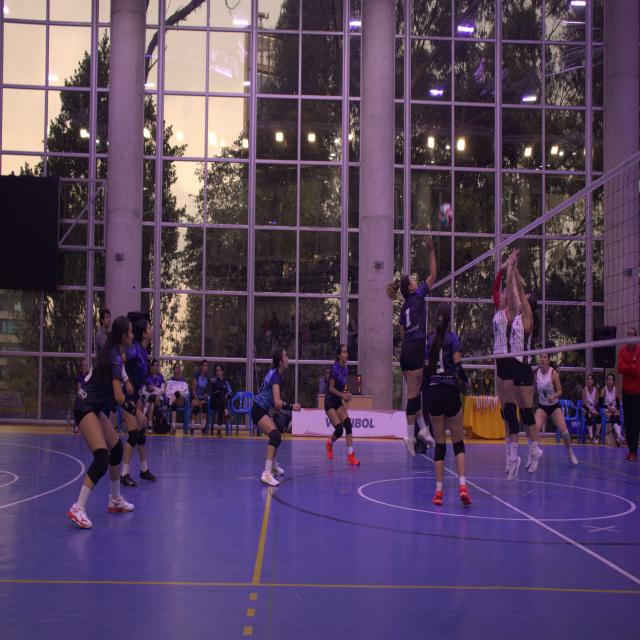volleyball: (439, 202, 454, 228)
